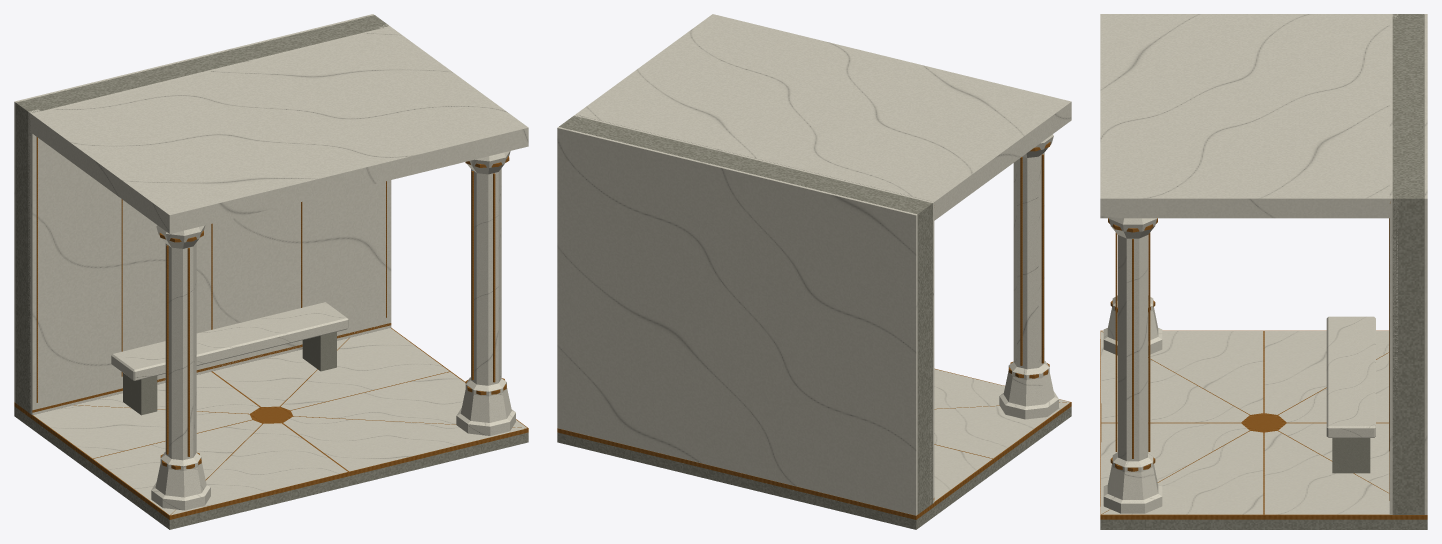
3 views of the same model, side by side, from view 1: azimuth 30°, elevation 25°; view 2: azimuth 150°, elevation 25°; view 3: azimuth 270°, elevation 25° (orthographic). The views are drawn at different scales.
Visible parts, largest first — view 1: Portico stone shade lintel, Replaceable marble facing panel, Bearing masonry wall segment, Marble pier stepped octagonal facing, Marble pier stepped octagonal facing.001, Replaceable flush radial marble floor sector.001, Quiet portico bench seat, Replaceable flush radial marble floor sector, Replaceable flush radial marble floor sector.003, Replaceable flush radial marble floor sector.006, Stone floor substrate, Replaceable flush radial marble floor sector.002 (+13 smaller); view 2: Replaceable marble facing panel.001, Portico stone shade lintel, Bearing masonry wall segment, Marble pier stepped octagonal facing, Stone floor substrate, Replaceable flush radial marble floor sector.007, Recessed continuous bronze inlay bed, Replaceable flush radial marble floor sector, Replaceable flush radial marble floor sector.006, Replaceable marble facing panel, Vertical bronze facing rail.001, Vertical bronze facing rail.002; view 3: Portico stone shade lintel, Bearing masonry wall segment, Marble pier stepped octagonal facing.001, Replaceable flush radial marble floor sector.003, Replaceable flush radial marble floor sector.002, Replaceable flush radial marble floor sector.007, Quiet portico bench seat, Replaceable flush radial marble floor sector.006, Replaceable flush radial marble floor sector, Replaceable flush radial marble floor sector.001, Recessed continuous bronze inlay bed, Stone floor substrate (+11 smaller).
Boxes of the visible parts, x1,y1,x2,y2 form: Portico stone shade lintel: (32,27,528,233); Replaceable marble facing panel: (31,26,391,414); Bearing masonry wall segment: (15,15,388,413); Marble pier stepped octagonal facing: (151,196,210,510); Marble pier stepped octagonal facing.001: (456,122,515,435); Replaceable flush radial marble floor sector.001: (283,416,526,471); Quiet portico bench seat: (111,302,348,380); Replaceable flush radial marble floor sector: (171,423,347,515); Replaceable flush radial marble floor sector.003: (280,328,449,410); Replaceable flush radial marble floor sector.006: (33,405,251,458); Stone floor substrate: (14,406,528,529); Replaceable flush radial marble floor sector.002: (291,372,526,427); Replaceable marble facing panel.001: (557,127,917,515); Portico stone shade lintel: (575,14,1071,220); Bearing masonry wall segment: (559,115,932,514); Marble pier stepped octagonal facing: (999,105,1058,419); Stone floor substrate: (557,406,1071,529); Replaceable flush radial marble floor sector.007: (934,402,1069,458); Recessed continuous bronze inlay bed: (557,368,1071,519); Replaceable flush radial marble floor sector: (934,369,1068,408); Replaceable flush radial marble floor sector.006: (934,445,991,501); Replaceable marble facing panel: (574,114,934,502); Vertical bronze facing rail.001: (1041,154,1043,363); Vertical bronze facing rail.002: (1020,157,1022,365); Portico stone shade lintel: (1100,14,1389,218); Bearing masonry wall segment: (1392,14,1424,514); Marble pier stepped octagonal facing.001: (1103,184,1162,513); Replaceable flush radial marble floor sector.003: (1264,431,1389,514); Replaceable flush radial marble floor sector.002: (1102,431,1263,514); Replaceable flush radial marble floor sector.007: (1102,331,1263,414); Quiet portico bench seat: (1326,316,1375,437); Replaceable flush radial marble floor sector.006: (1264,331,1388,414); Replaceable flush radial marble floor sector: (1100,331,1249,422); Replaceable flush radial marble floor sector.001: (1100,423,1249,514); Recessed continuous bronze inlay bed: (1100,330,1427,519); Stone floor substrate: (1100,519,1427,529).
Bounding box in the file's own units: 4 × 3.35 × 3.
Materials: 3 (3 with a texture image).
